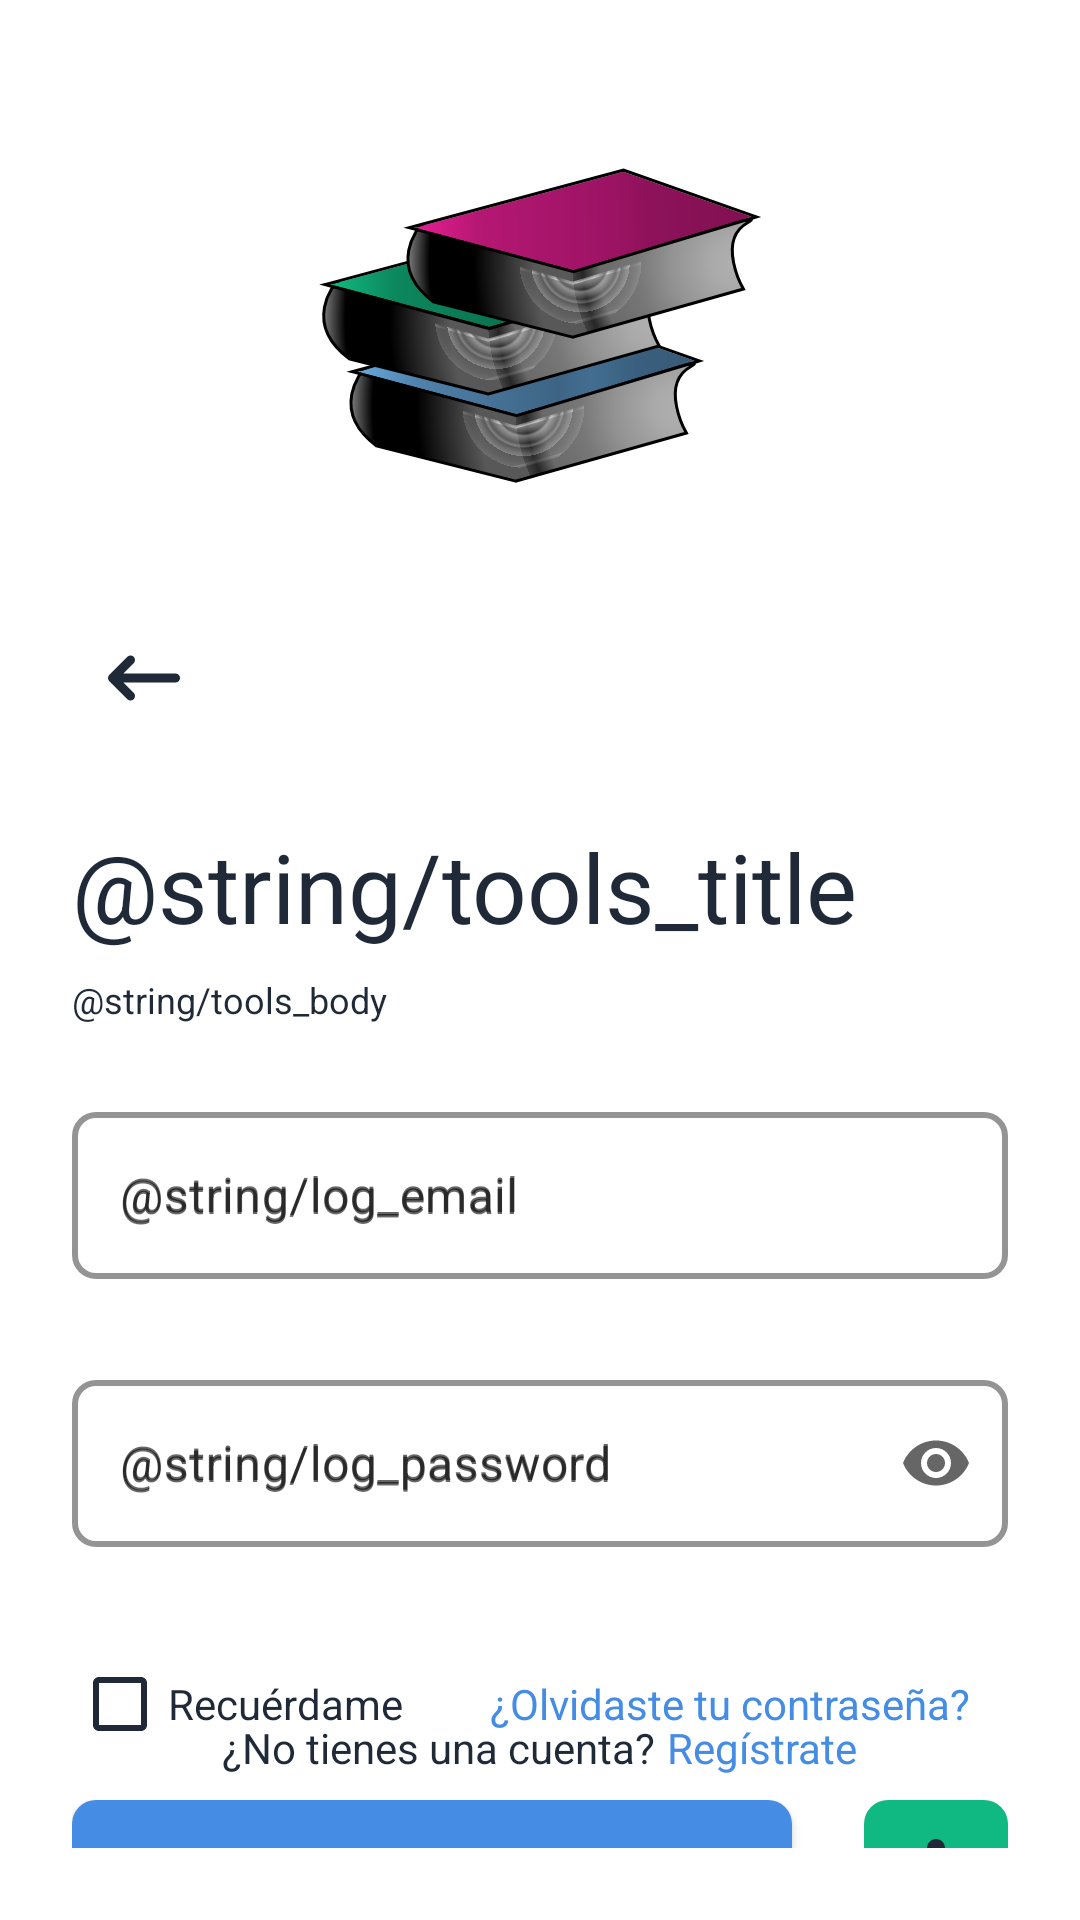

Icon bounding boxes for this 1080×1920 phone screenshot, format (x1, y1, x2, y2):
return: (108, 655, 180, 701)
